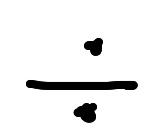div: (21, 38, 138, 118)
